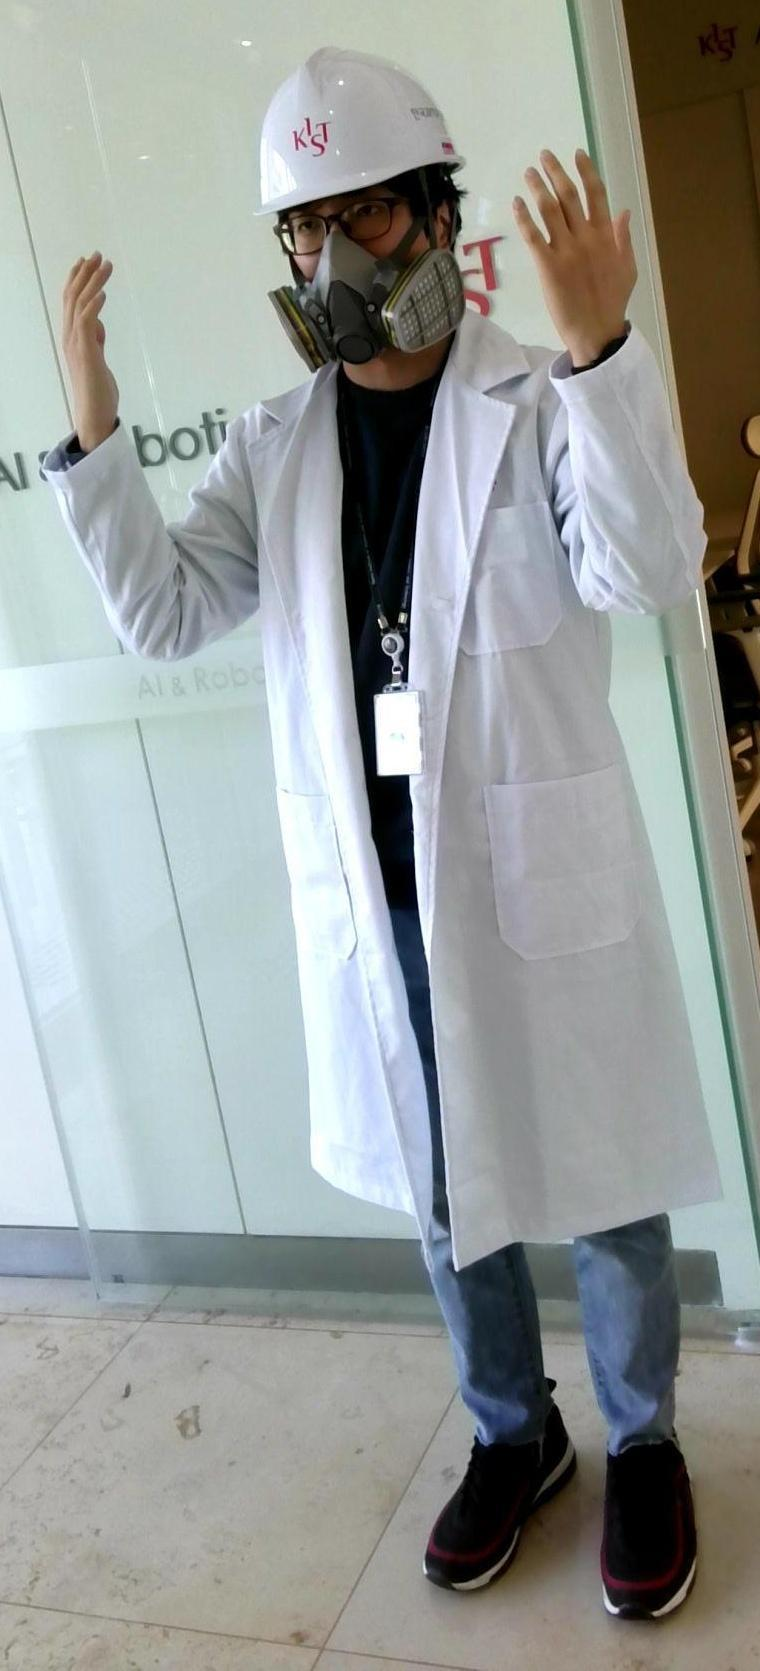lab_coat: (183, 370, 688, 1221)
